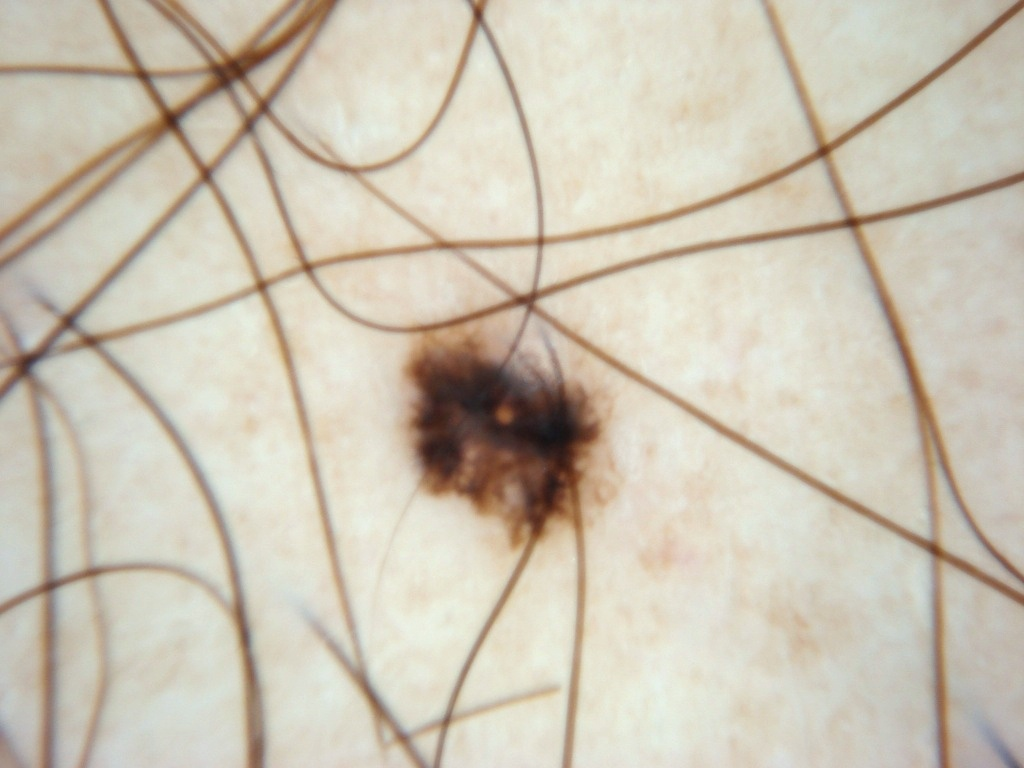Detected Lesion: (395, 317, 627, 541)
